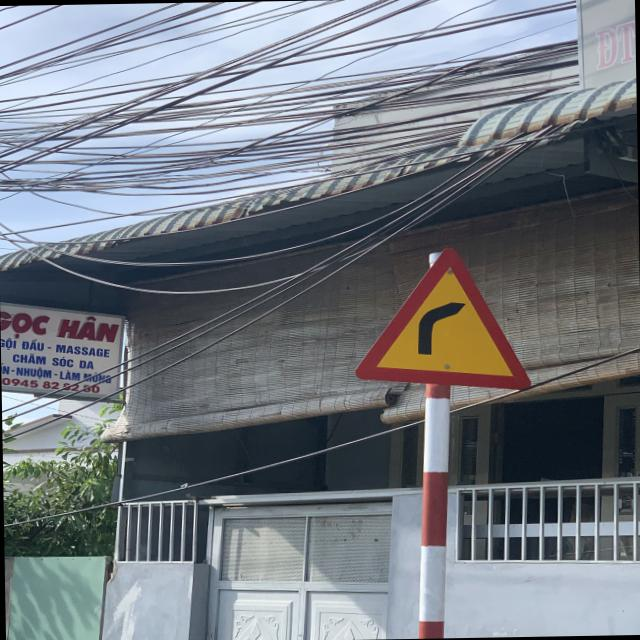Duong_Nguoi_Di_Bo_Cat_Ngang: (351, 246, 530, 393)
